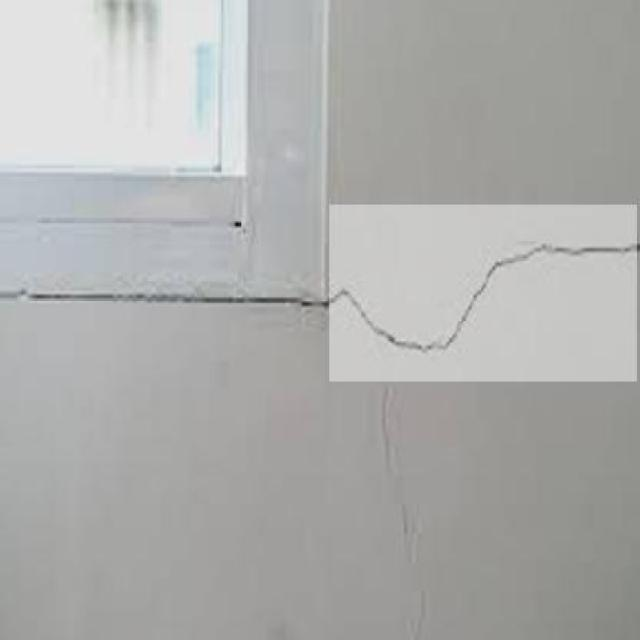Crack: (313, 201, 640, 379), (0, 278, 311, 329)
